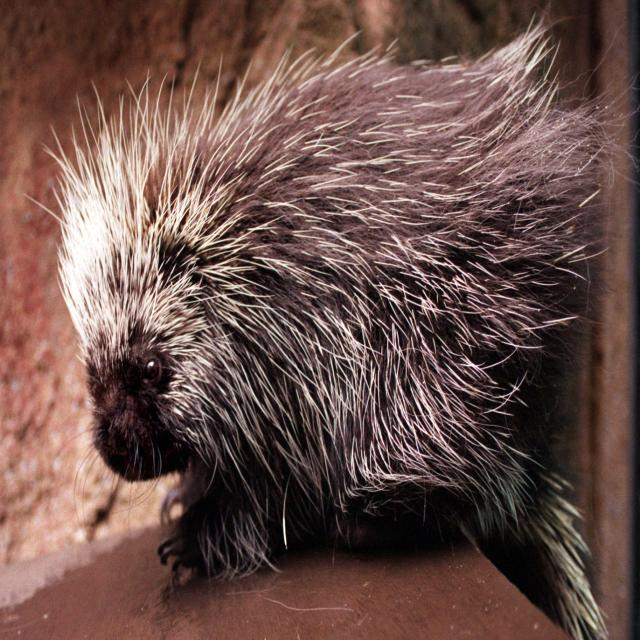porcupine: (55, 21, 607, 639)
